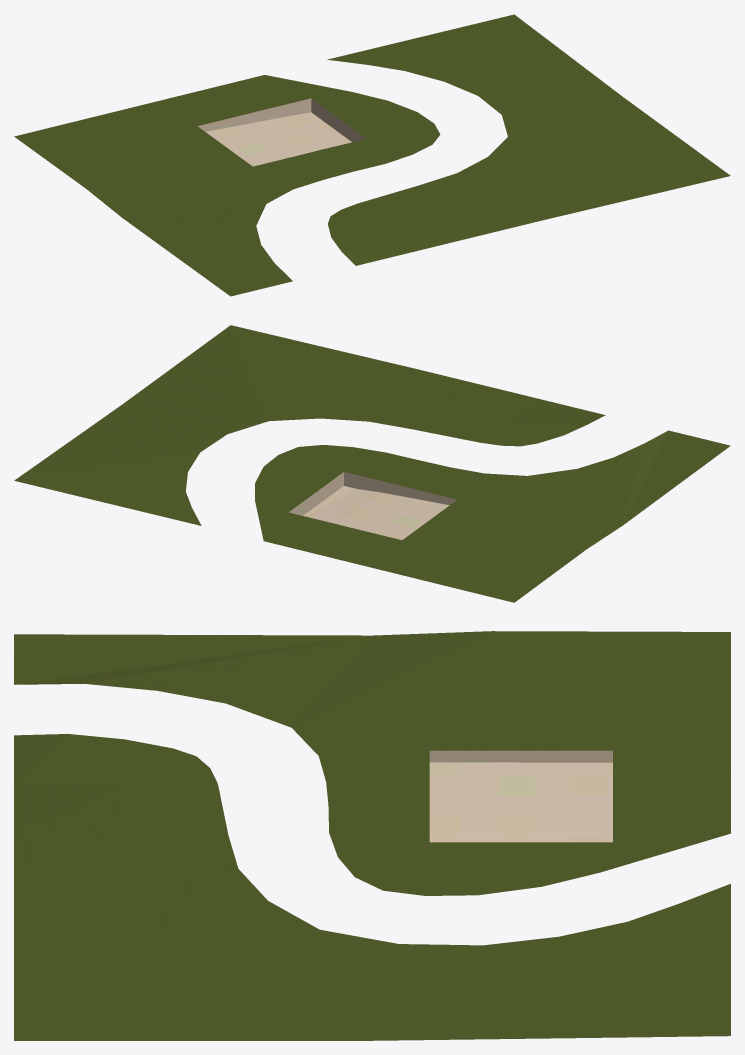
Rendered from lodeland19_lvs.obj.
The picture shows the model from 3 angles, top to bottom: view 1: azimuth 30°, elevation 25°; view 2: azimuth 150°, elevation 25°; view 3: azimuth 270°, elevation 25°; orthographic projection. The views are drawn at different scales.
Parts seen in each view (by area): view 1: lodEland19_lvs; view 2: lodEland19_lvs; view 3: lodEland19_lvs.
Boxes of the visible parts, box(x1,y1,x2,y2) form: lodEland19_lvs: box(14, 14, 730, 296); lodEland19_lvs: box(14, 325, 730, 602); lodEland19_lvs: box(14, 631, 730, 1040).
Size of the model in its own units: 160 by 4.31 by 120.
2 materials, 2 textured.
